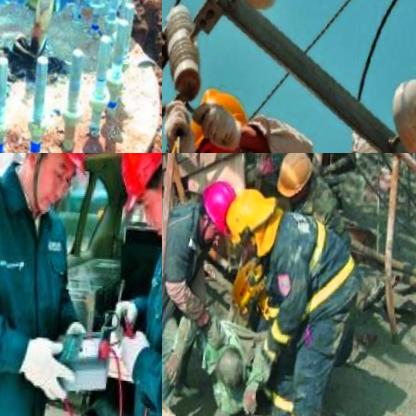helmet: (180, 82, 260, 153), (14, 153, 100, 215), (108, 153, 162, 241), (230, 183, 286, 255), (271, 153, 319, 207), (196, 180, 237, 243)
